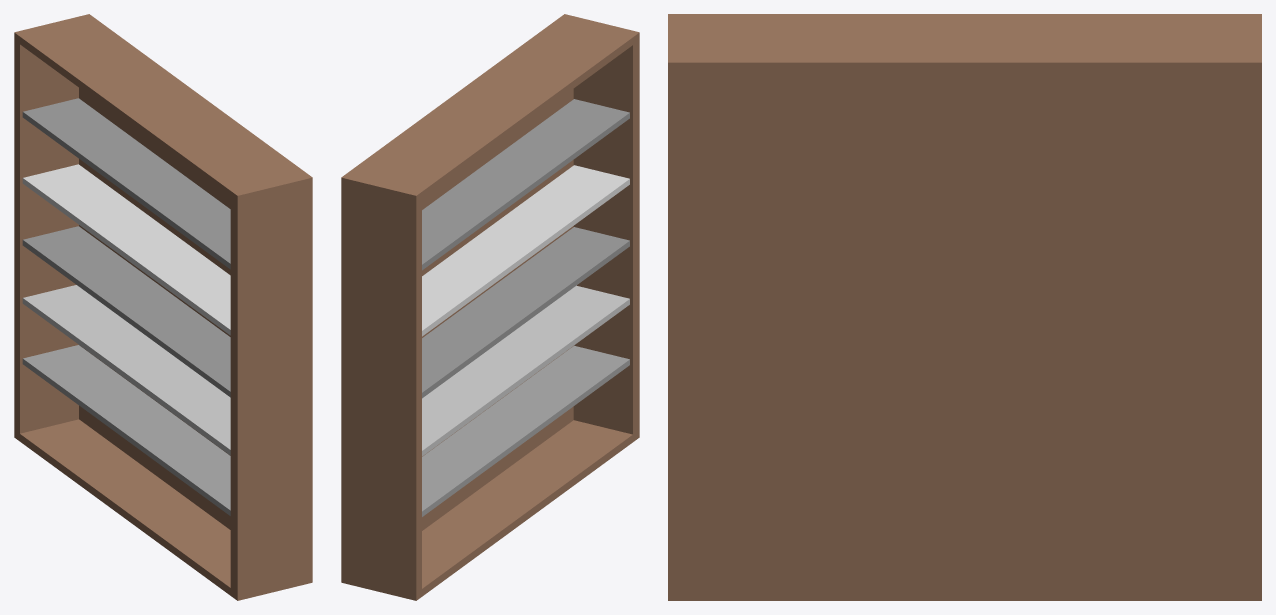
Rendered from Bücherregal.fbx.
3 views of the same model, side by side, from view 1: azimuth 30°, elevation 25°; view 2: azimuth 150°, elevation 25°; view 3: azimuth 270°, elevation 25° (orthographic). The views are drawn at different scales.
Visible parts, largest first — view 1: Cube, Plane.003, Plane.002, Plane.004, Plane.001, Plane; view 2: Cube, Plane.002, Plane.004, Plane.003, Plane.001, Plane; view 3: Cube.
Part boxes in pixels (bbox=[...]): Cube: bbox=[14, 14, 312, 600]; Plane.003: bbox=[22, 164, 230, 335]; Plane.002: bbox=[22, 226, 230, 397]; Plane.004: bbox=[22, 98, 230, 269]; Plane.001: bbox=[22, 345, 230, 515]; Plane: bbox=[22, 285, 230, 455]; Cube: bbox=[341, 14, 639, 600]; Plane.002: bbox=[422, 227, 629, 398]; Plane.004: bbox=[422, 99, 629, 270]; Plane.003: bbox=[422, 165, 629, 336]; Plane.001: bbox=[422, 345, 629, 516]; Plane: bbox=[422, 285, 629, 456]; Cube: bbox=[668, 14, 1261, 600].
Size of the model in its own units: 51.45 by 265 by 265.
